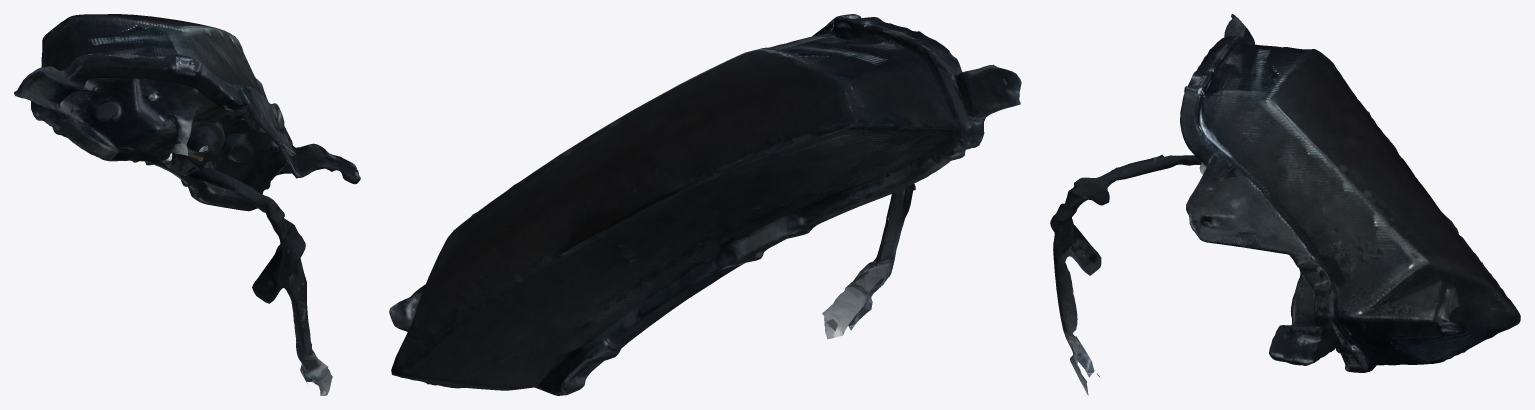
File: SPD-33550X-B.obj
3 renders of one model, left to right at view 1: azimuth 30°, elevation 25°; view 2: azimuth 150°, elevation 25°; view 3: azimuth 270°, elevation 25°, orthographic. The views are drawn at different scales.
Visible parts, largest first — view 1: SPD-33550X-B; view 2: SPD-33550X-B; view 3: SPD-33550X-B.
Part boxes in pixels (x1,y1,x2,y2): SPD-33550X-B: (14,14,360,395); SPD-33550X-B: (389,14,1021,395); SPD-33550X-B: (1050,14,1520,395).
Bounding box in the file's own units: 213 × 173 × 255.
1 material, 1 textured.
